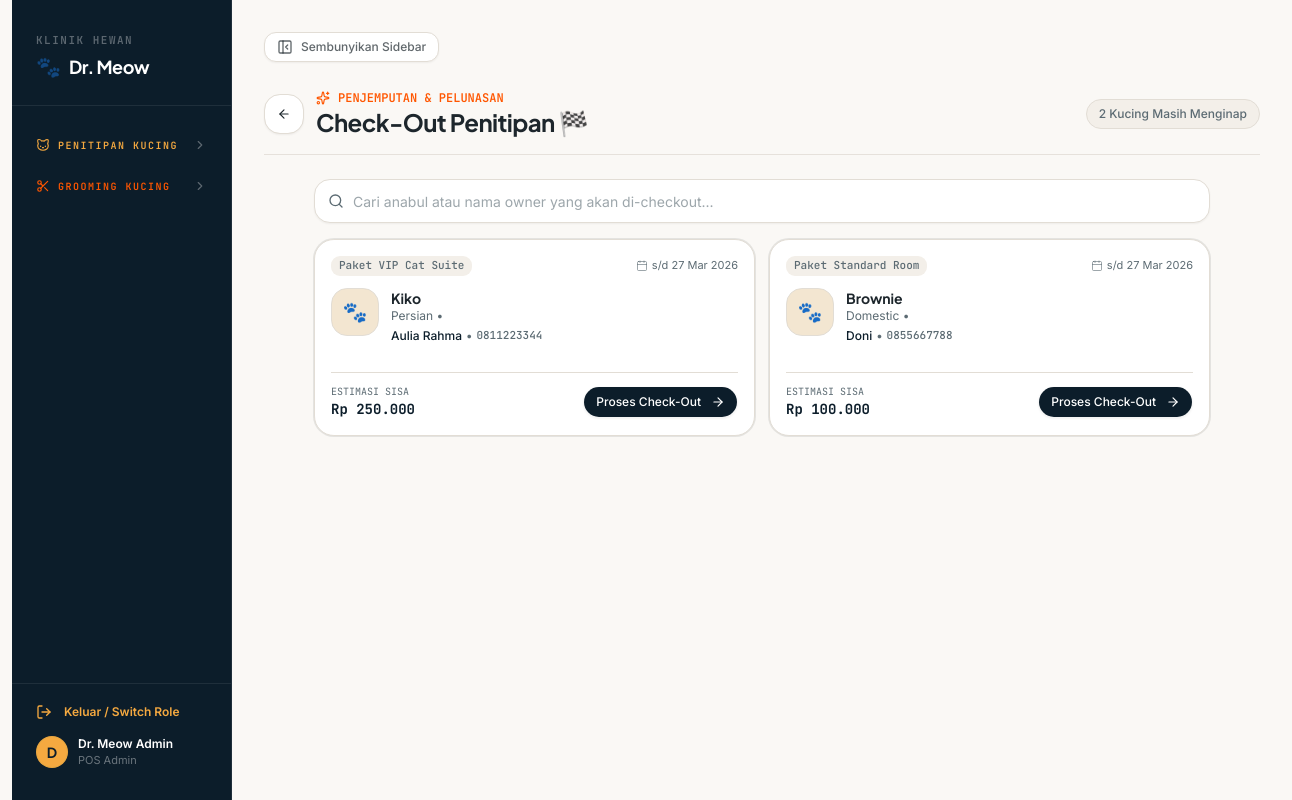
Test: src/pages/pos/CheckOut.tsx - Component Tests › filters active bookings list based on search input query
Expected: the heading "Kiko" is shown, [391, 289, 421, 307]
Step 1. Type "Kiko" into the field with placeholder "Cari anabul atau nama owner yang akan di-checkout..." → [762, 201], box [314, 179, 1210, 223]
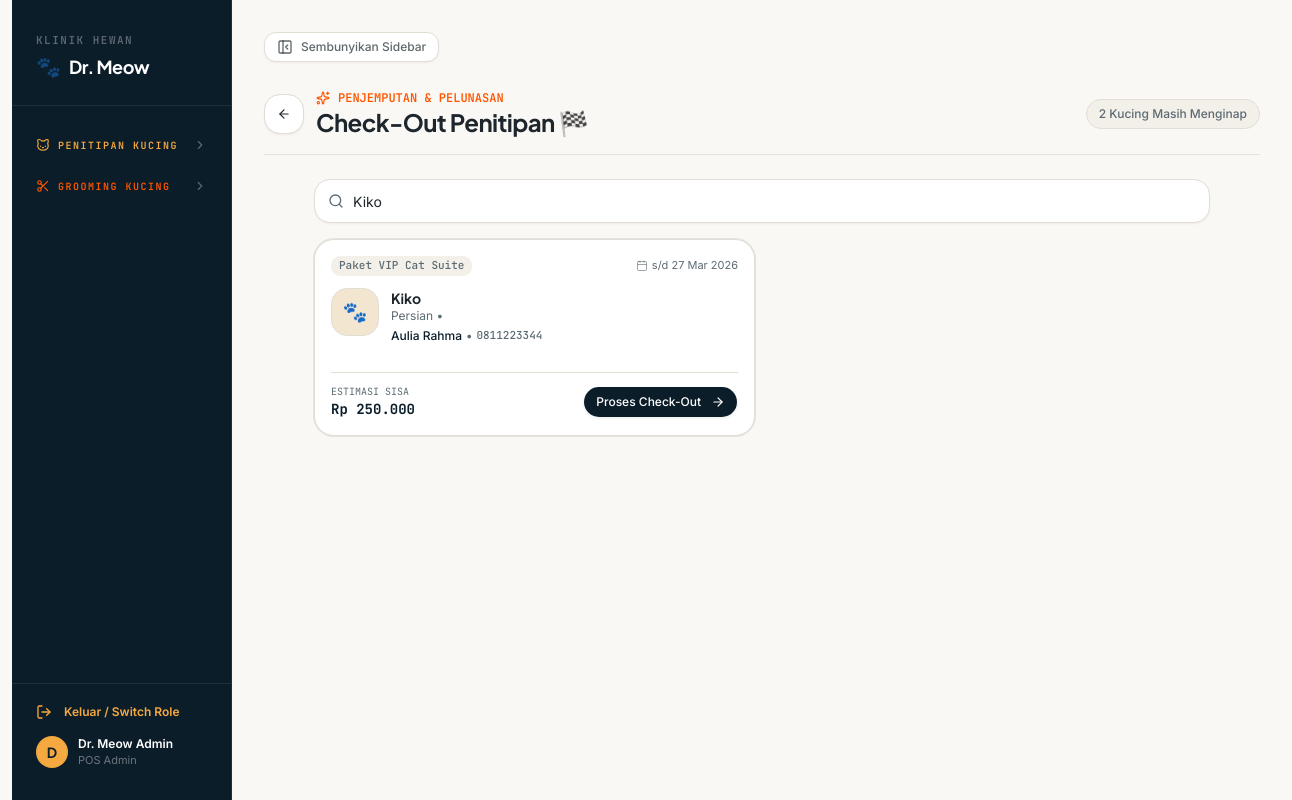
Expected: the heading "Kiko" is shown, [391, 289, 421, 307]
Expected: the heading "Brownie" is gone
